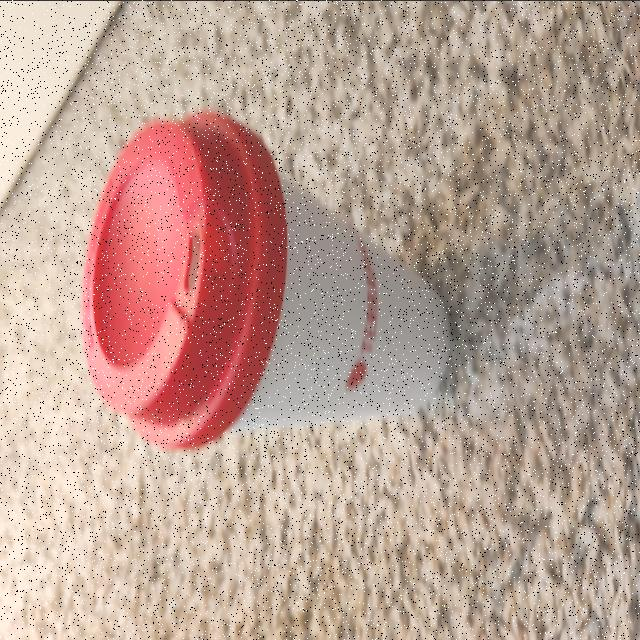mug: (87, 122, 445, 422)
